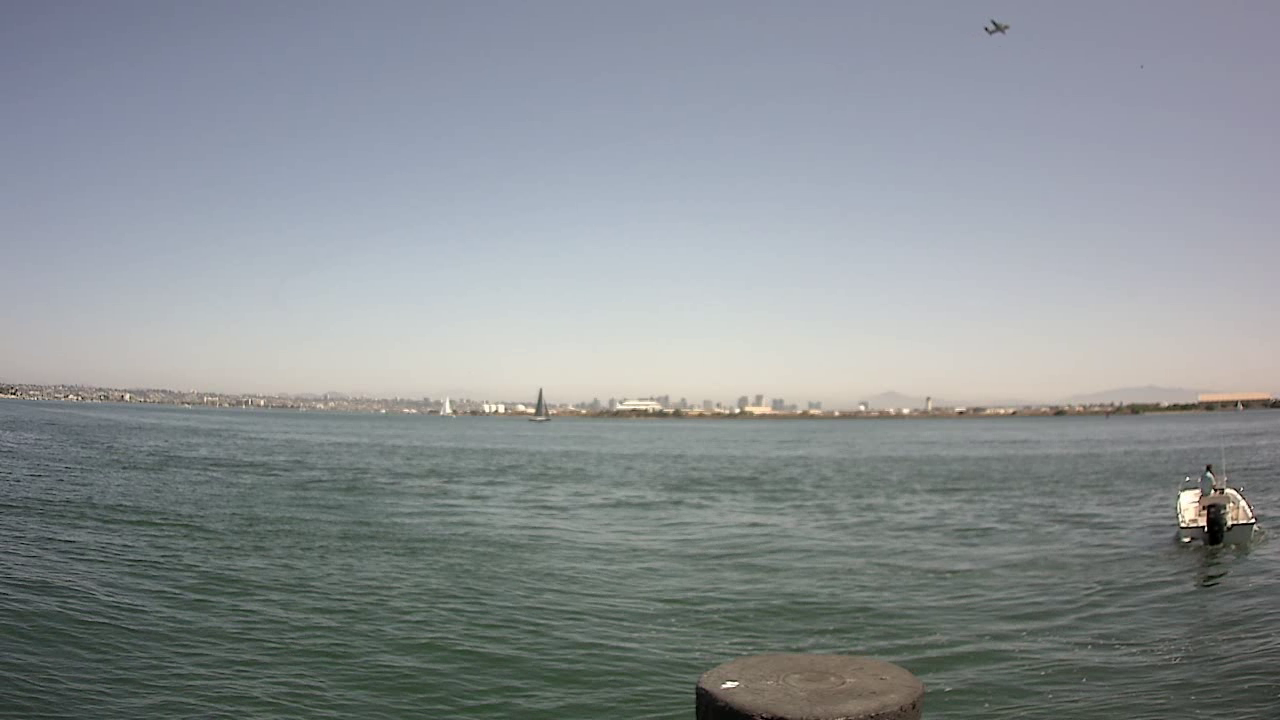target: (1163, 458, 1264, 555)
